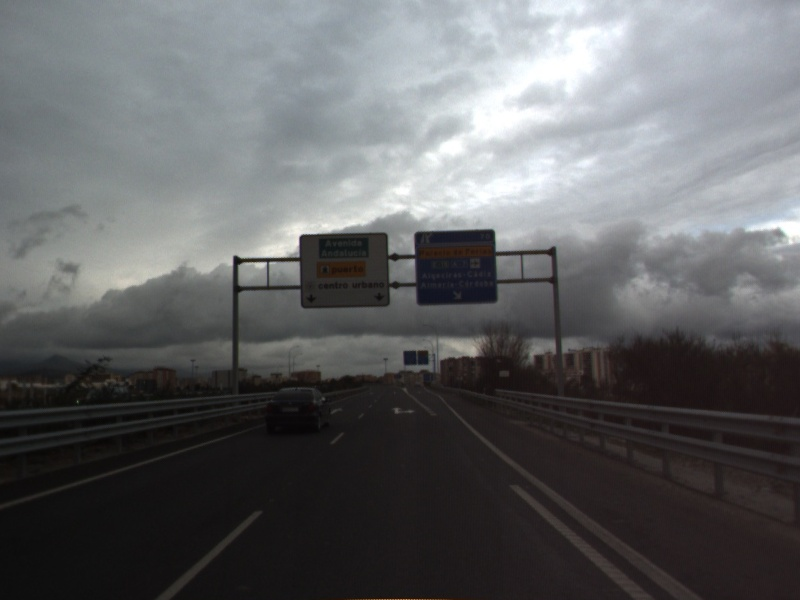STRAIGHT: (329, 405, 345, 416)
STRAIGHT_RIGHT: (389, 405, 417, 416)
